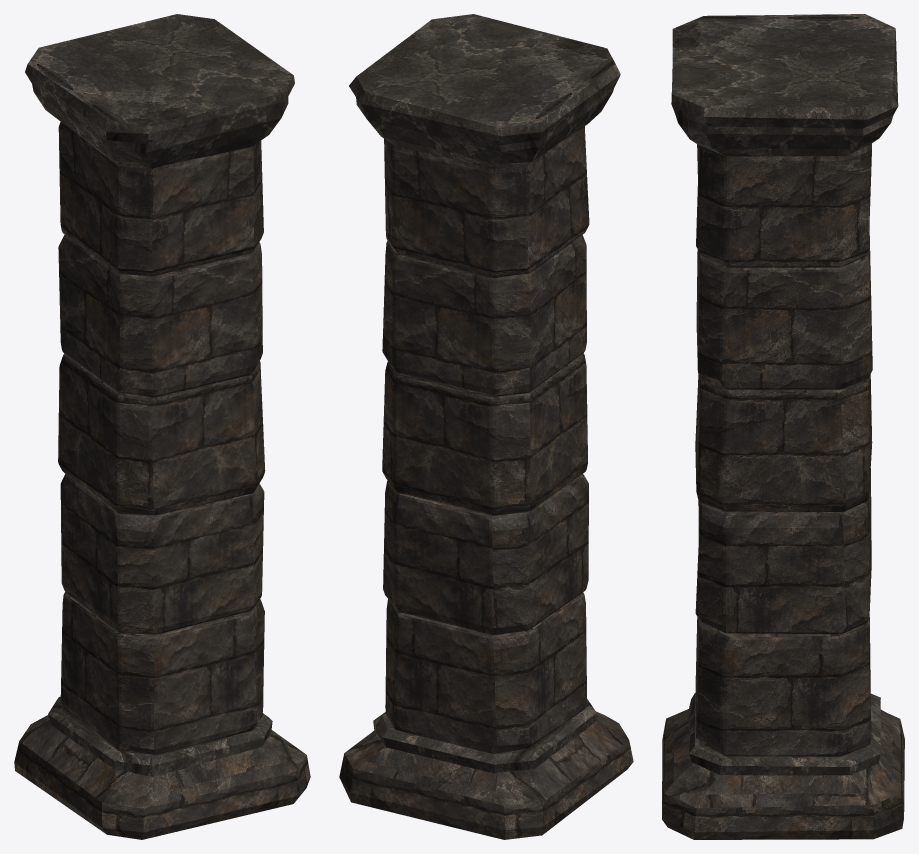
Rendered from crypt_cover_pillar.glb.
The picture shows the model from 3 angles, left to right: view 1: azimuth 30°, elevation 25°; view 2: azimuth 150°, elevation 25°; view 3: azimuth 270°, elevation 25°; orthographic projection. The views are drawn at different scales.
Parts seen in each view (by area): view 1: Crypt Cover Pillar Mesh; view 2: Crypt Cover Pillar Mesh; view 3: Crypt Cover Pillar Mesh.
Part boxes in pixels (x1=…): Crypt Cover Pillar Mesh: x1=14, y1=14, x2=310, y2=839; Crypt Cover Pillar Mesh: x1=339, y1=14, x2=633, y2=839; Crypt Cover Pillar Mesh: x1=662, y1=14, x2=904, y2=839.
Bounding box in the file's own units: 1.18 × 3.83 × 1.16.
2 materials, 2 textured.
